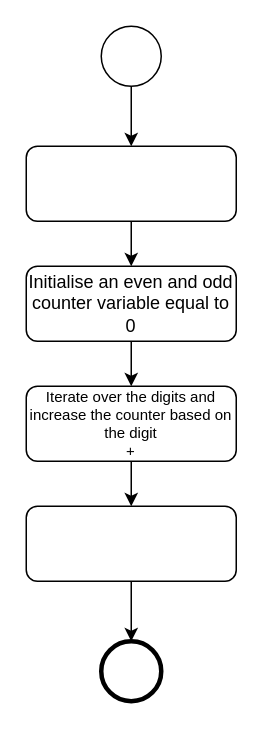
Some shapes in this 263 by 729 pixel diagram are drawn without their labels. Here are the shapes that lost their labels. From the top down, the centre of each, then its label:
the point at 130,183: Receive an integer
the point at 130,543: Return a tuple (even, odd)
